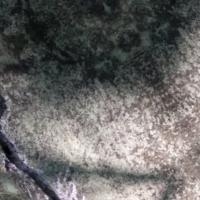crack: (0, 94, 61, 196)
